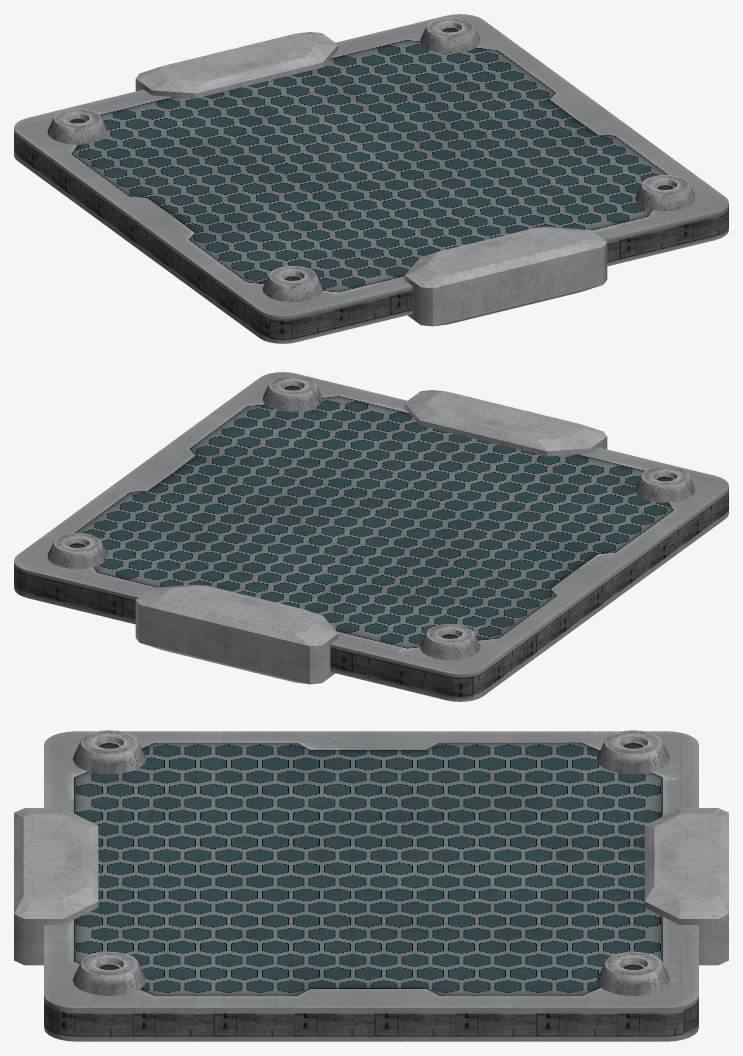
Rendered from doodad_solarpanel.fbx.
The picture shows the model from 3 angles, top to bottom: view 1: azimuth 30°, elevation 25°; view 2: azimuth 150°, elevation 25°; view 3: azimuth 270°, elevation 25°; orthographic projection. The views are drawn at different scales.
Parts seen in each view (by area): view 1: polySurface1; view 2: polySurface1; view 3: polySurface1.
Part boxes in pixels (bbox=[...]): polySurface1: bbox=[14, 14, 728, 343]; polySurface1: bbox=[14, 372, 728, 701]; polySurface1: bbox=[14, 730, 728, 1041].
Bounding box in the file's own units: 10 × 1.07 × 10.92.
1 material, 1 textured.
